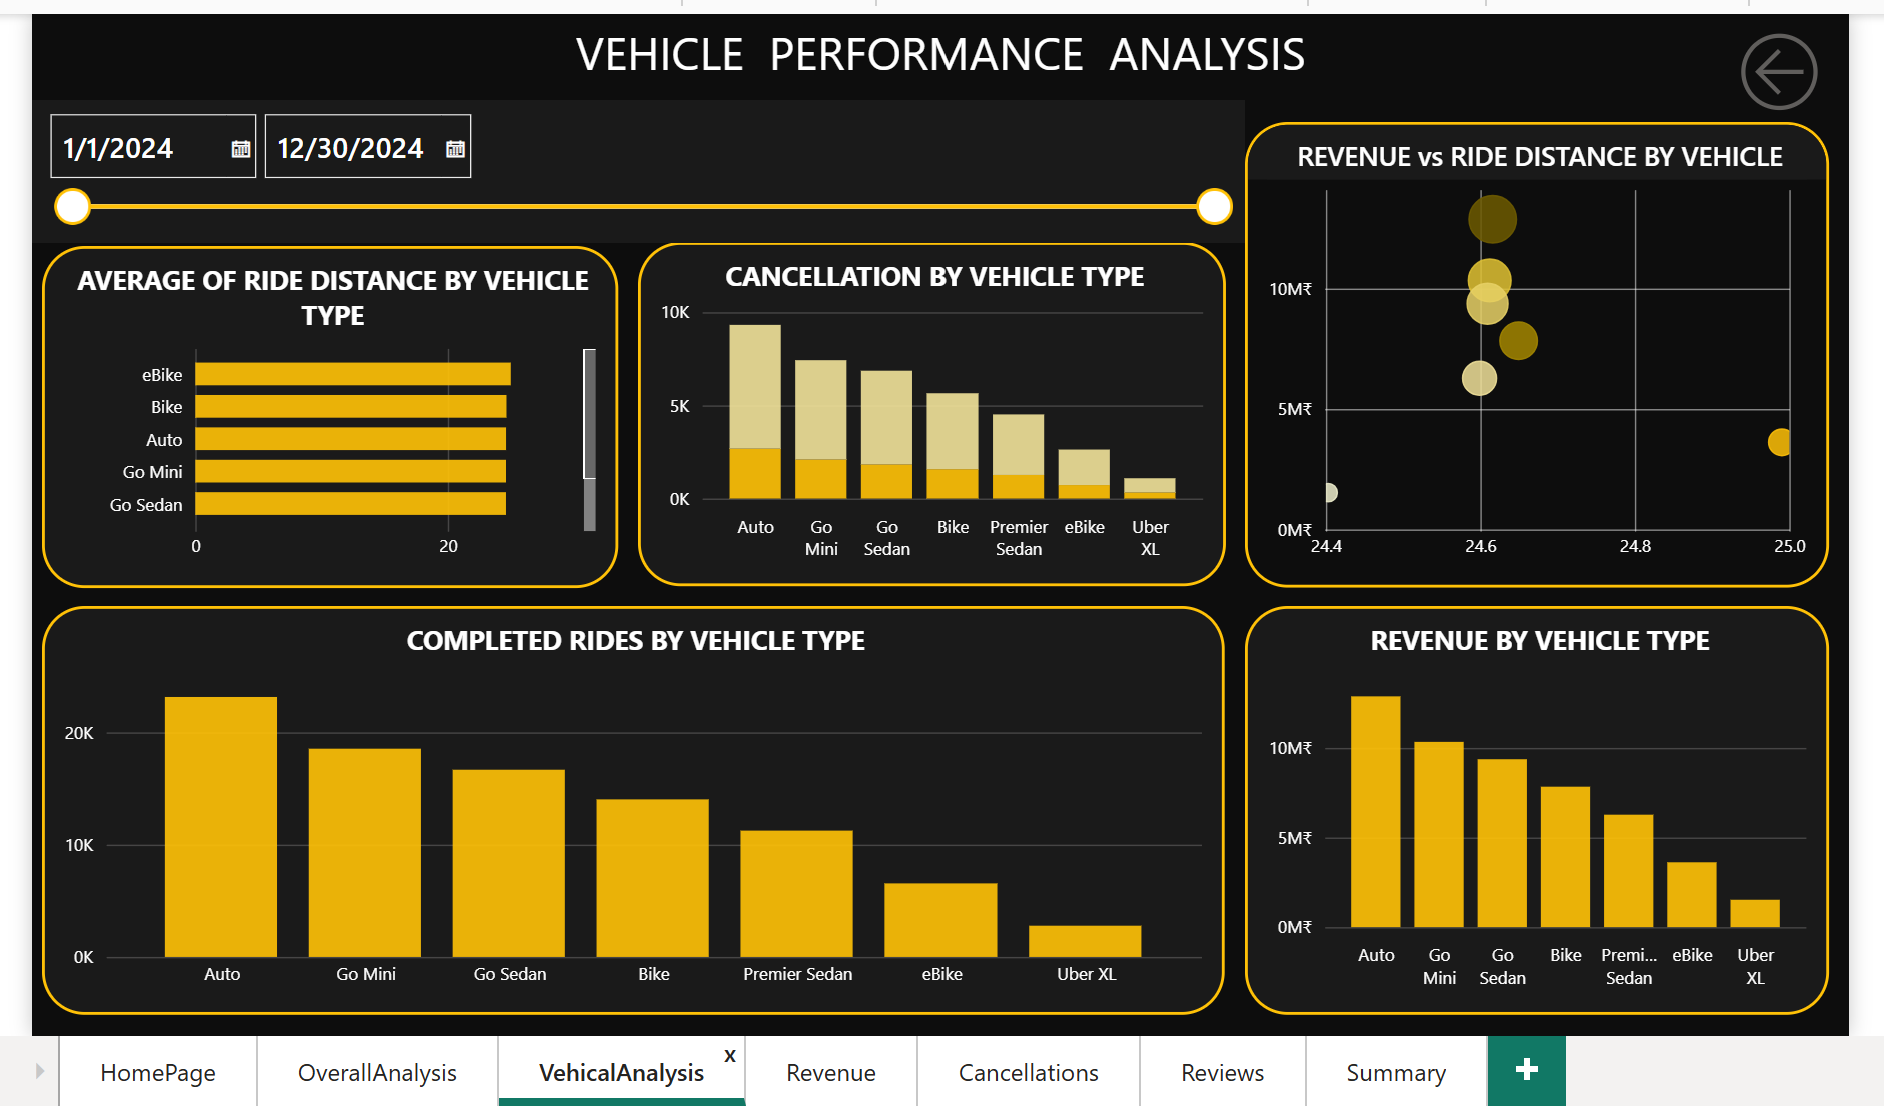

Layout of this report page (visuals, bound fields, positions):
{"tool":"powerbi","page":{"name":"VehicalAnalysis","canvas":[1280,720],"ordinal":2},"visuals":[{"type":"scatterChart","title":"REVENUE vs RIDE DISTANCE BY VEHICLE","fields":{"Series":["rideBookings.Vehicle Type"],"X":["Avg(rideBookings.Ride Distance)"],"Size":["rideBookings.TotalBookings"],"Y":["Sum(rideBookings.Booking Value)"]},"box":[853.3,75.9,411.5,328.1],"z":0},{"type":"actionButton","box":[1196.6,5.7,68.3,70.2],"z":1000},{"type":"textbox","box":[0,0,1280,75.9],"z":2000},{"type":"clusteredColumnChart","title":"REVENUE BY VEHICLE TYPE","fields":{"Category":["rideBookings.Vehicle Type"],"Y":["Sum(rideBookings.Booking Value)"]},"box":[853.3,417.2,411.5,288.2],"z":3000},{"type":"lineStackedColumnComboChart","title":"COMPLETED RIDES BY VEHICLE TYPE","fields":{"Category":["rideBookings.Vehicle Type"],"Y":["rideBookings.Completed Rides"]},"box":[7.6,417.2,832.5,288.2],"z":4000},{"type":"clusteredBarChart","title":"AVERAGE OF RIDE DISTANCE BY VEHICLE TYPE","fields":{"Category":["rideBookings.Vehicle Type"],"Y":["Avg(rideBookings.Ride Distance)"]},"box":[7.6,163.1,405.8,240.8],"z":5000},{"type":"columnChart","title":"CANCELLATION BY VEHICLE TYPE","fields":{"Category":["rideBookings.Vehicle Type"],"Y":["Sum(rideBookings.Cancelled Rides by Customer)","Sum(rideBookings.Cancelled Rides by Driver)"]},"box":[426.7,161.2,413.4,242.7],"z":6000},{"type":"slicer","fields":{"Values":["rideBookings.Date"]},"box":[0,60.7,853.3,100.5],"z":7000}]}

Visuals, with their boxes on the page's 1280x720 design canvas (x1, y1, x2, y2). These are canvas units, not pixel positions in the 1884x1106 screenshot, which may show the page scaled, cropped or inside an application window:
"REVENUE vs RIDE DISTANCE BY VEHICLE" scatterChart: bbox(853, 76, 1265, 404)
actionButton: bbox(1197, 6, 1265, 76)
textbox: bbox(0, 0, 1280, 76)
"REVENUE BY VEHICLE TYPE" clusteredColumnChart: bbox(853, 417, 1265, 705)
"COMPLETED RIDES BY VEHICLE TYPE" lineStackedColumnComboChart: bbox(8, 417, 840, 705)
"AVERAGE OF RIDE DISTANCE BY VEHICLE TYPE" clusteredBarChart: bbox(8, 163, 413, 404)
"CANCELLATION BY VEHICLE TYPE" columnChart: bbox(427, 161, 840, 404)
slicer - rideBookings.Date: bbox(0, 61, 853, 161)
